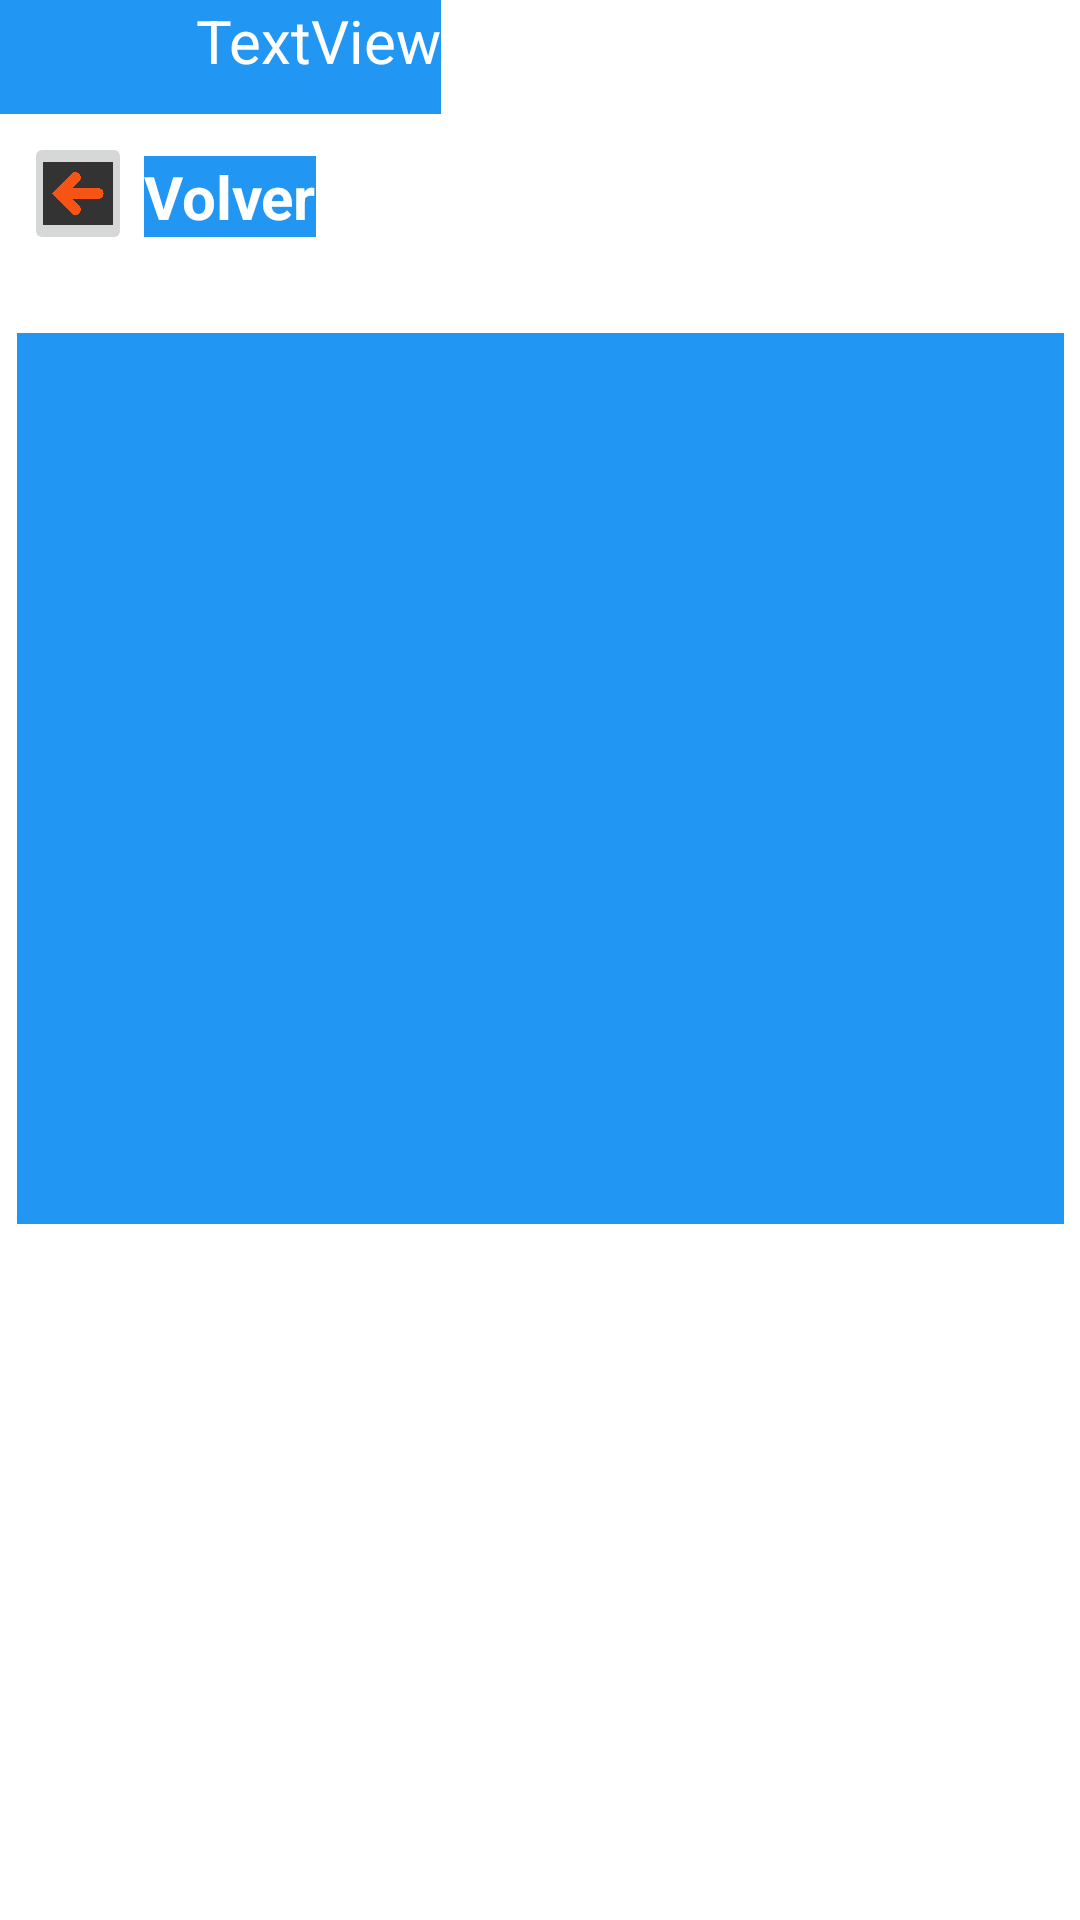

Screen size 1080*1920. Icon name, then its center in pixels as point (x, y):
arrowleft: point (78, 193)
